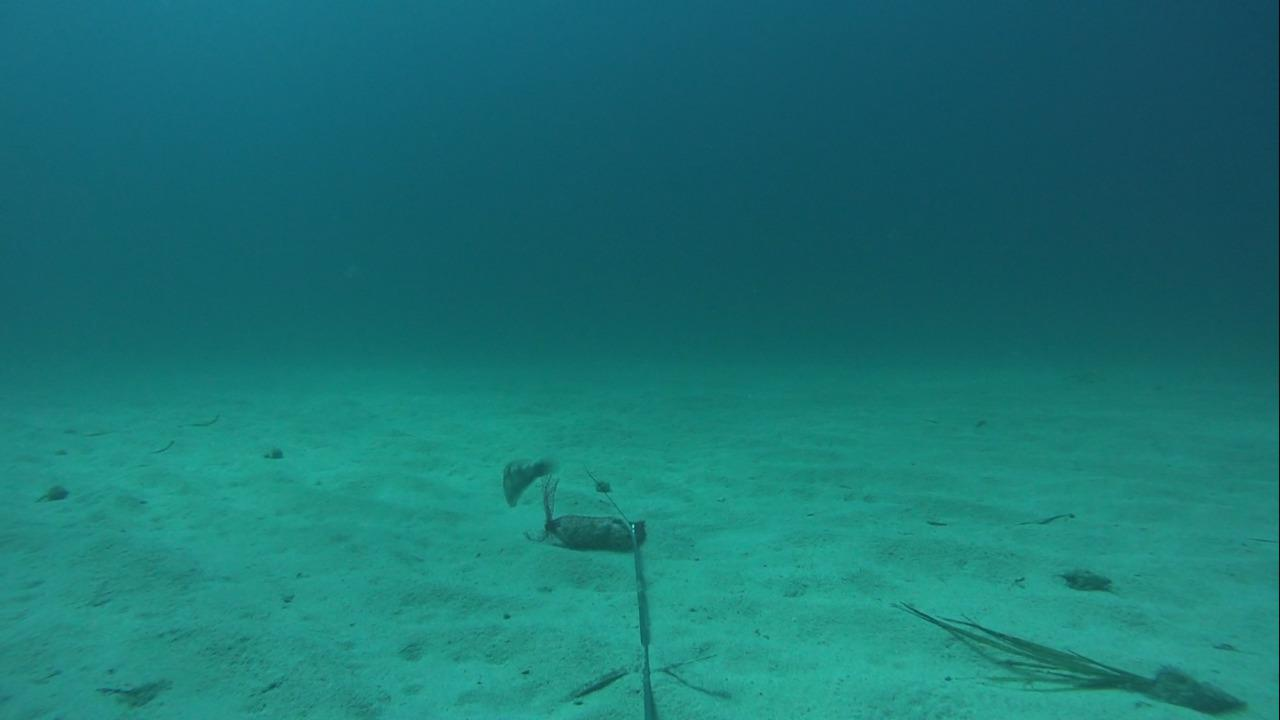raor: (495, 450, 555, 508)
